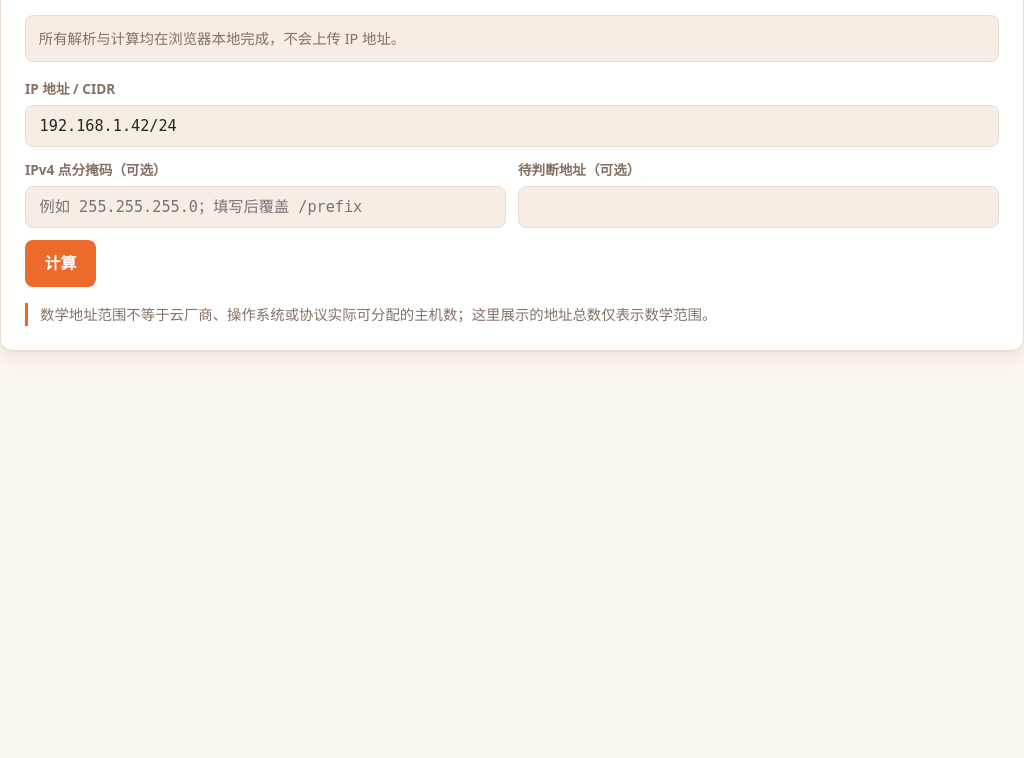
Test: reports optional same-family membership
Type "192.168.1.200" into the field labelled "待判断地址（可选）". click: (758, 207)
box: [518,186,999,228]
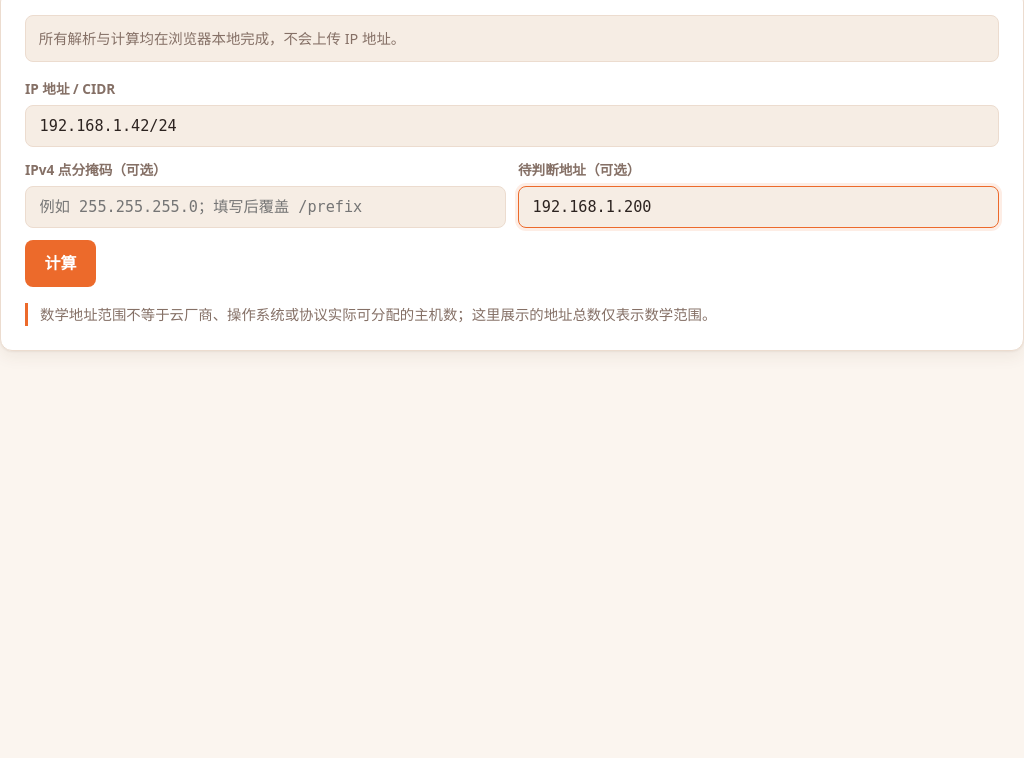
Click the button "计算". click: (60, 264)
box: [25,240,96,287]
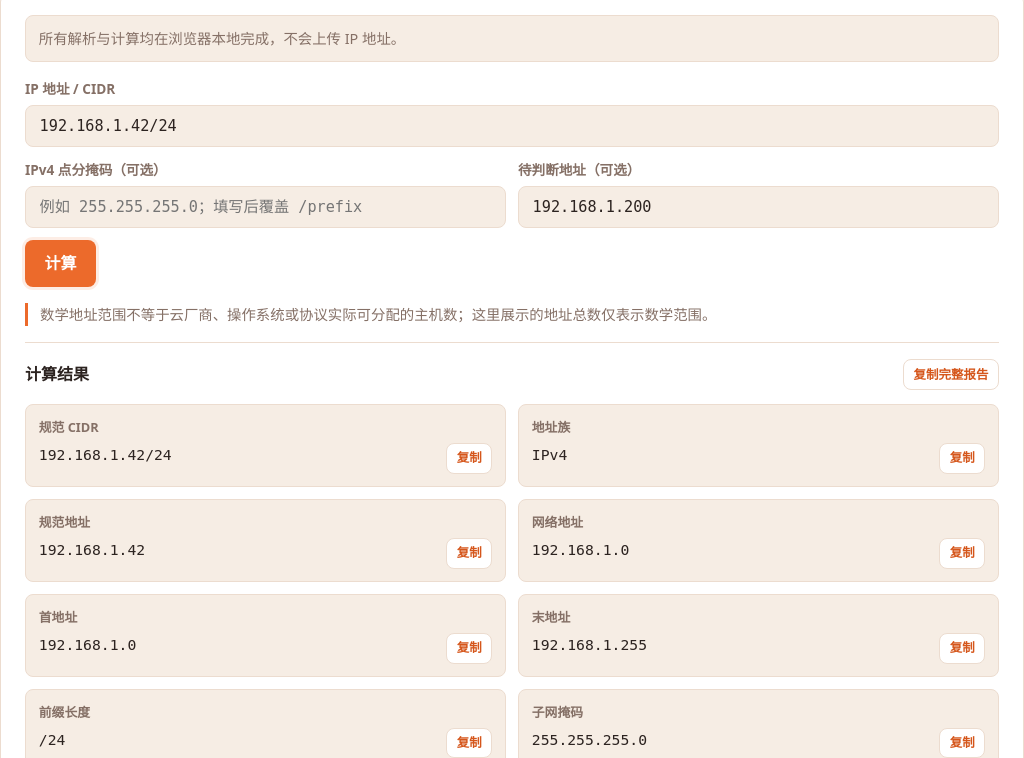
Replace the text in the field labelled "待判断地址（可选）" with "192.168.2.1". click: (758, 207)
box: [518,186,999,228]
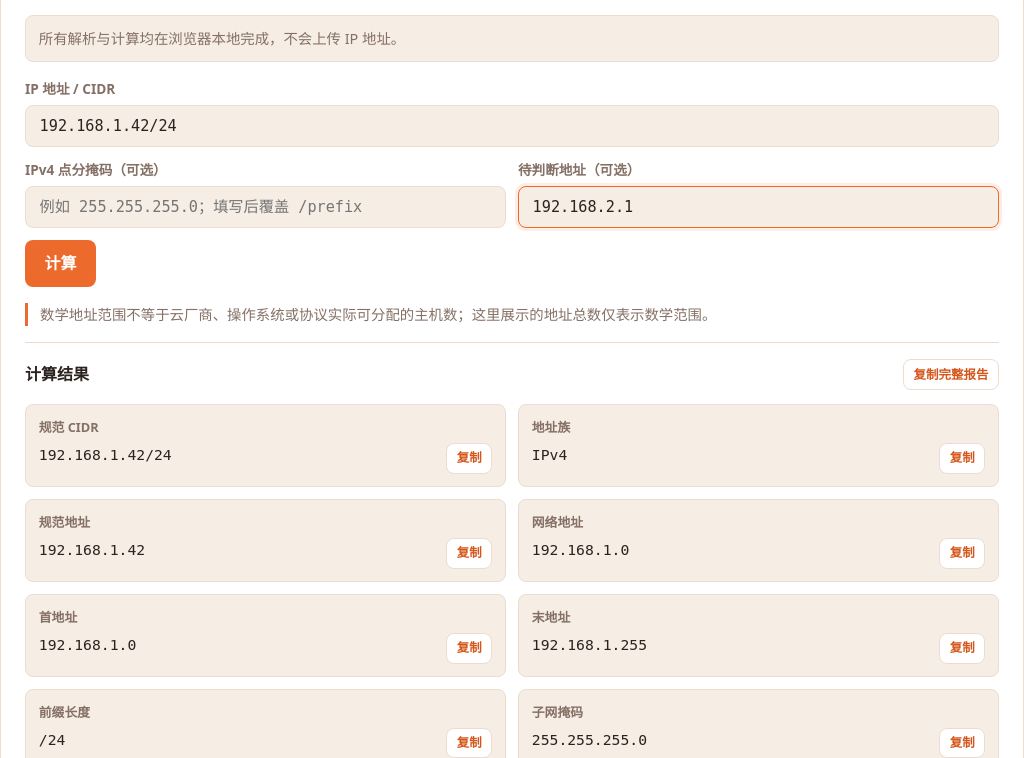
Click the button "计算". click: (60, 264)
box: [25,240,96,287]
(page scrolled)
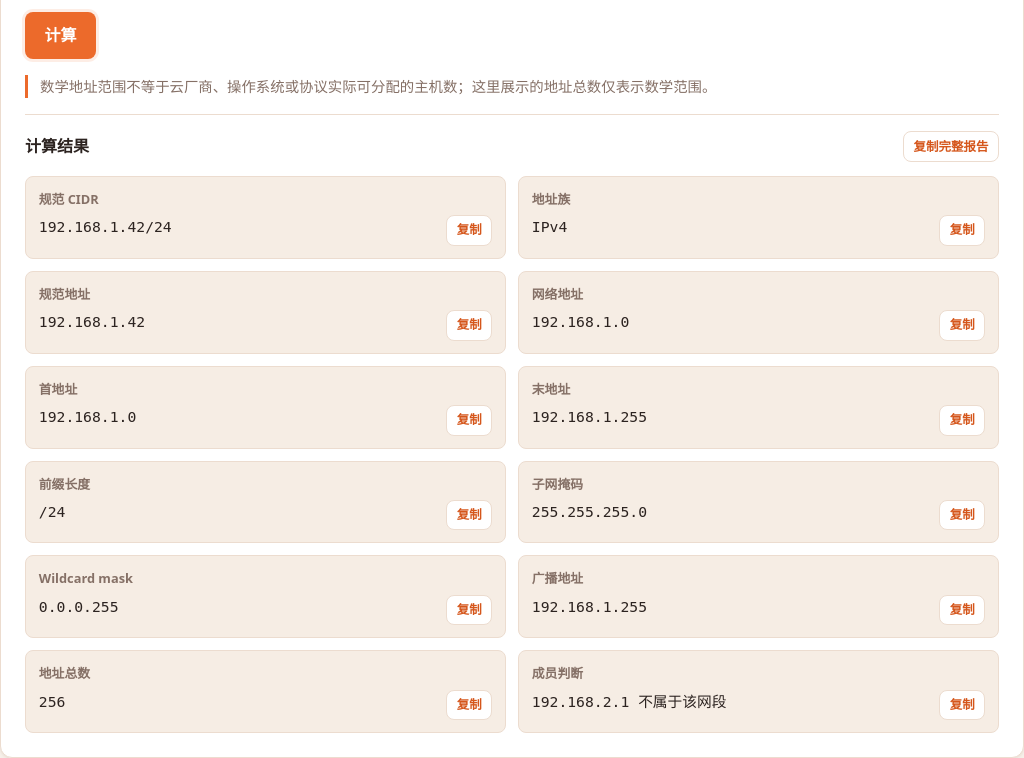
Expected: the text named "成员判断" reads "192.168.2.1 不属于该网段", [532,692,726,710]
